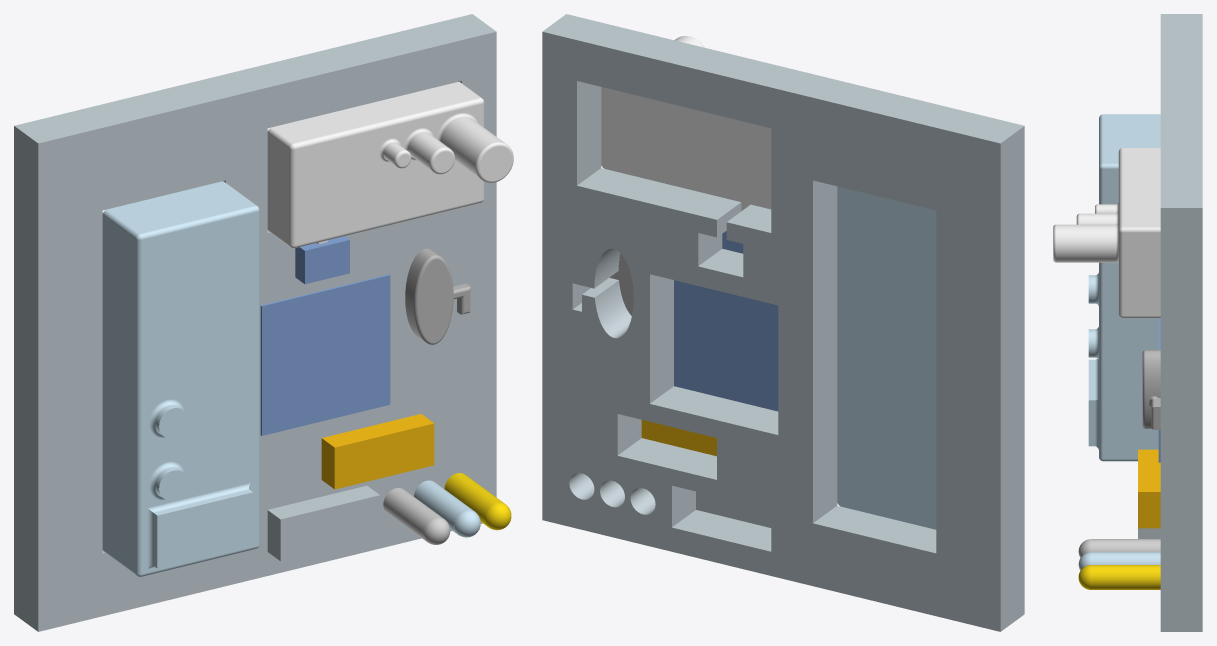
Rendered from Part Studio 1.glb.
3 renders of one model, left to right at view 1: azimuth 30°, elevation 25°; view 2: azimuth 150°, elevation 25°; view 3: azimuth 270°, elevation 25°, orthographic. The views are drawn at different scales.
Visible parts, largest first — view 1: Part 11, Part 1, Part 3, Part 10, Part 5, Part 4, Part 6, Part 2, Part 9, Part 7, Part 8; view 2: Part 11, Part 1, Part 3, Part 10, Part 4, Part 5, Part 6; view 3: Part 11, Part 1, Part 3, Part 7, Part 5, Part 6, Part 9, Part 8, Part 4.
Boxes of the visible parts, x1=… form: Part 11: x1=14, y1=14, x2=496, y2=631; Part 1: x1=102, y1=181, x2=259, y2=576; Part 3: x1=267, y1=82, x2=513, y2=248; Part 10: x1=260, y1=274, x2=390, y2=435; Part 5: x1=321, y1=414, x2=434, y2=489; Part 4: x1=267, y1=485, x2=379, y2=561; Part 6: x1=405, y1=248, x2=470, y2=344; Part 2: x1=295, y1=236, x2=349, y2=284; Part 9: x1=383, y1=488, x2=450, y2=544; Part 7: x1=444, y1=473, x2=511, y2=530; Part 8: x1=414, y1=480, x2=480, y2=537; Part 11: x1=542, y1=14, x2=1024, y2=631; Part 1: x1=837, y1=186, x2=936, y2=529; Part 3: x1=601, y1=36, x2=771, y2=210; Part 10: x1=674, y1=280, x2=778, y2=411; Part 4: x1=696, y1=491, x2=771, y2=527; Part 5: x1=641, y1=420, x2=716, y2=456; Part 6: x1=609, y1=253, x2=633, y2=315; Part 11: x1=1160, y1=14, x2=1202, y2=631; Part 1: x1=1088, y1=114, x2=1160, y2=461; Part 3: x1=1053, y1=148, x2=1160, y2=318; Part 7: x1=1078, y1=565, x2=1160, y2=589; Part 5: x1=1138, y1=449, x2=1160, y2=528; Part 6: x1=1142, y1=350, x2=1160, y2=429; Part 9: x1=1078, y1=539, x2=1160, y2=557; Part 8: x1=1078, y1=552, x2=1160, y2=570; Part 4: x1=1138, y1=528, x2=1160, y2=538.
Bounding box in the file's own units: 0.1094 × 0.1115 × 0.0356.
